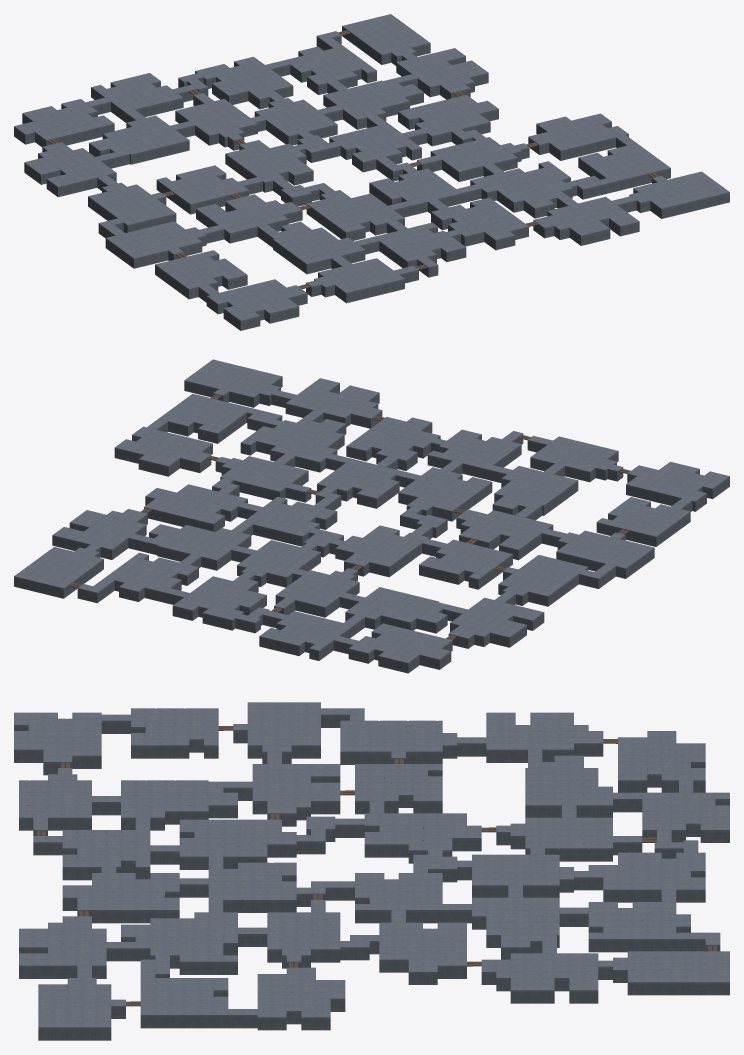
Rendered from LayoutRoot_40_28_0285.fbx.
3 renders of one model, top to bottom at view 1: azimuth 30°, elevation 25°; view 2: azimuth 150°, elevation 25°; view 3: azimuth 270°, elevation 25°, orthographic. The views are drawn at different scales.
Parts seen in each view (by area): view 1: FloortileBasicBig (4) (×2), FloortileBasicBig (2); view 2: FloortileBasicBig (2) (×2), FloortileBasicBig (4) (×2); view 3: FloortileBasicBig (4) (×6), FloortileBasicBig (×6), FloortileBasicBig (3) (×4), FloortileBasicBig (5) (×4), FloortileBasicBig (2) (×3), FloortileBasicBig (6).
Part boxes in pixels (box(x1,y1,x2,y2)): FloortileBasicBig (4) (×2): box(335, 196, 680, 303); FloortileBasicBig (2): box(217, 83, 248, 104); FloortileBasicBig (2) (×2): box(148, 453, 419, 673); FloortileBasicBig (4) (×2): box(266, 564, 559, 606); FloortileBasicBig (4) (×6): box(135, 733, 656, 995); FloortileBasicBig (×6): box(19, 733, 715, 995); FloortileBasicBig (3) (×4): box(106, 877, 661, 1028); FloortileBasicBig (5) (×4): box(286, 762, 685, 1024); FloortileBasicBig (2) (×3): box(14, 737, 408, 972); FloortileBasicBig (6): box(306, 816, 335, 841).
Bounding box in the file's own units: 158 × 3 × 147.
